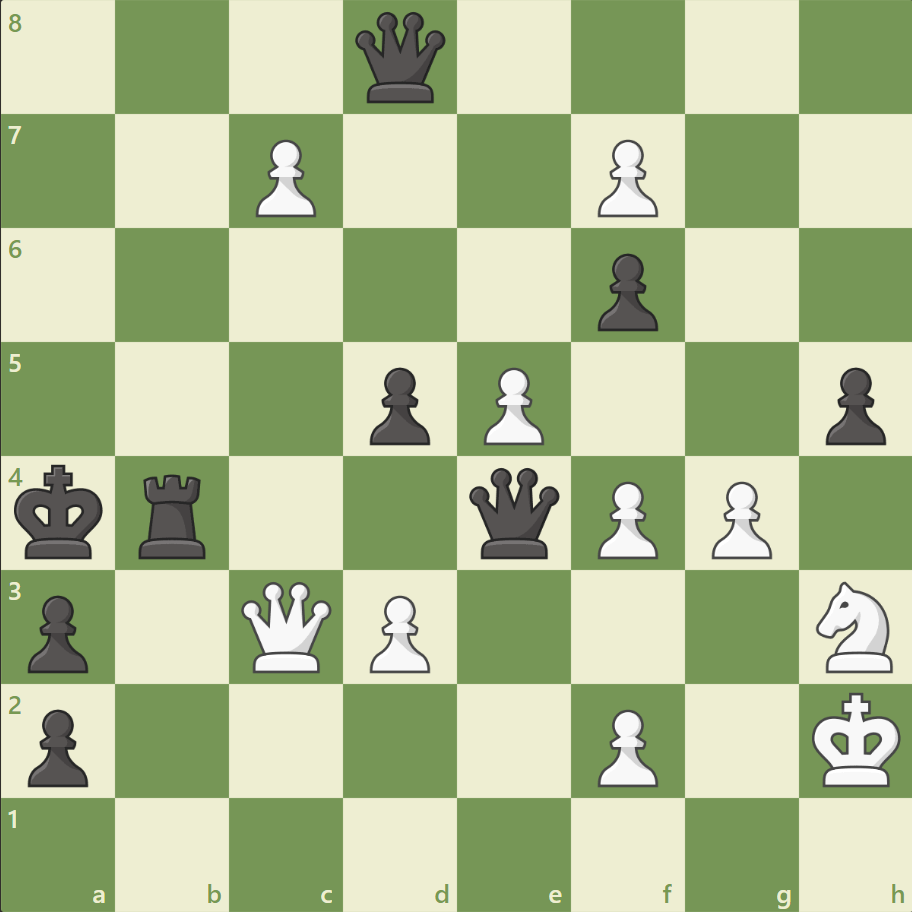K: (806, 685, 906, 793)
N: (806, 575, 903, 677)
P: (247, 132, 322, 223), (474, 359, 549, 450), (701, 473, 776, 564), (588, 132, 662, 223), (588, 473, 662, 564), (361, 586, 435, 677), (588, 700, 662, 791)
Q: (237, 576, 336, 676)
k: (11, 458, 111, 566)
p: (20, 586, 95, 677), (20, 700, 95, 791), (588, 246, 662, 337), (361, 359, 435, 450), (815, 359, 889, 450)
q: (351, 9, 450, 108), (464, 463, 563, 562)
r: (133, 466, 215, 563)
